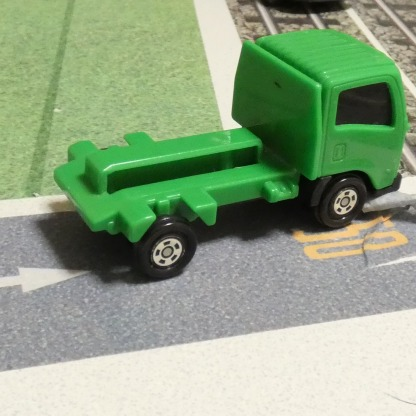car: (56, 29, 407, 278)
